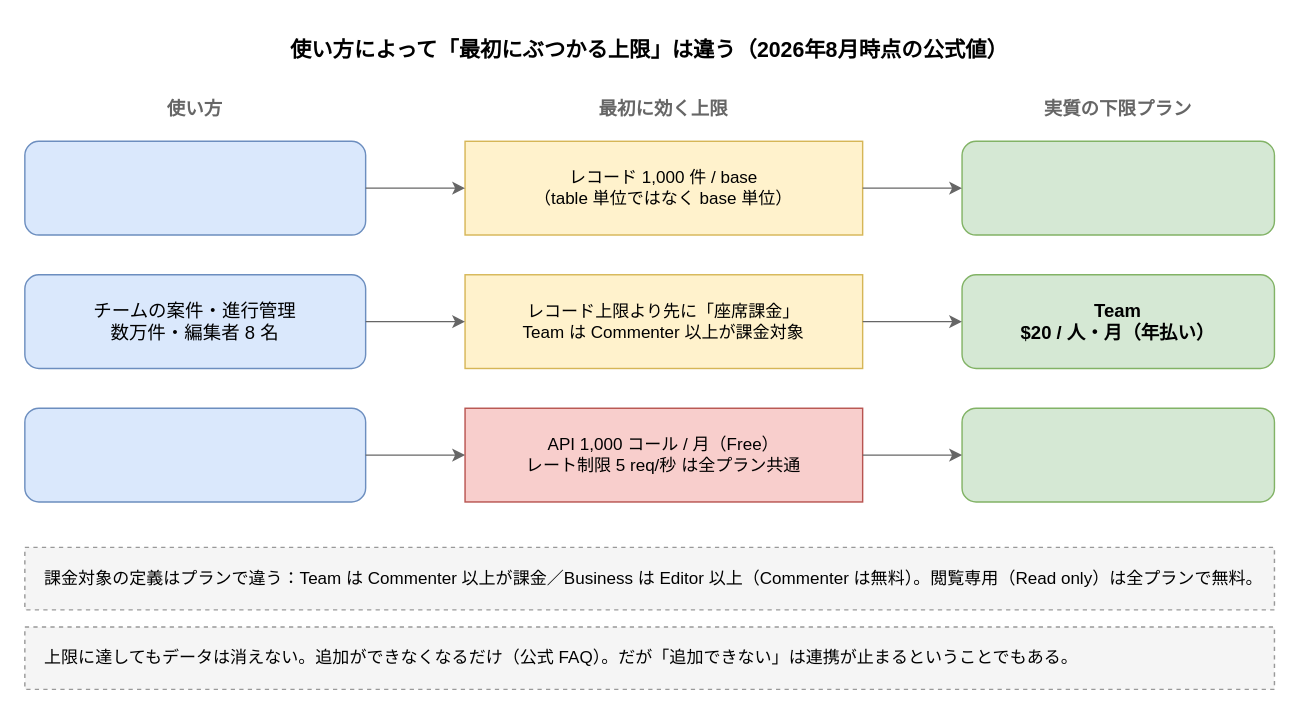
This 1299x714 diagram has some shape labels left out. Each missing label, with the centre of its shape:
"Free（無料）" belongs at (x=1117, y=187).
"MA / CRM と API 連携 外部同期・自動化を多用" belongs at (x=194, y=454).
"Team 以上 規模次第で Business（$45）" belongs at (x=1117, y=454).
"社内の小さなリスト管理 数百件・編集者 3 名" belongs at (x=194, y=187).
